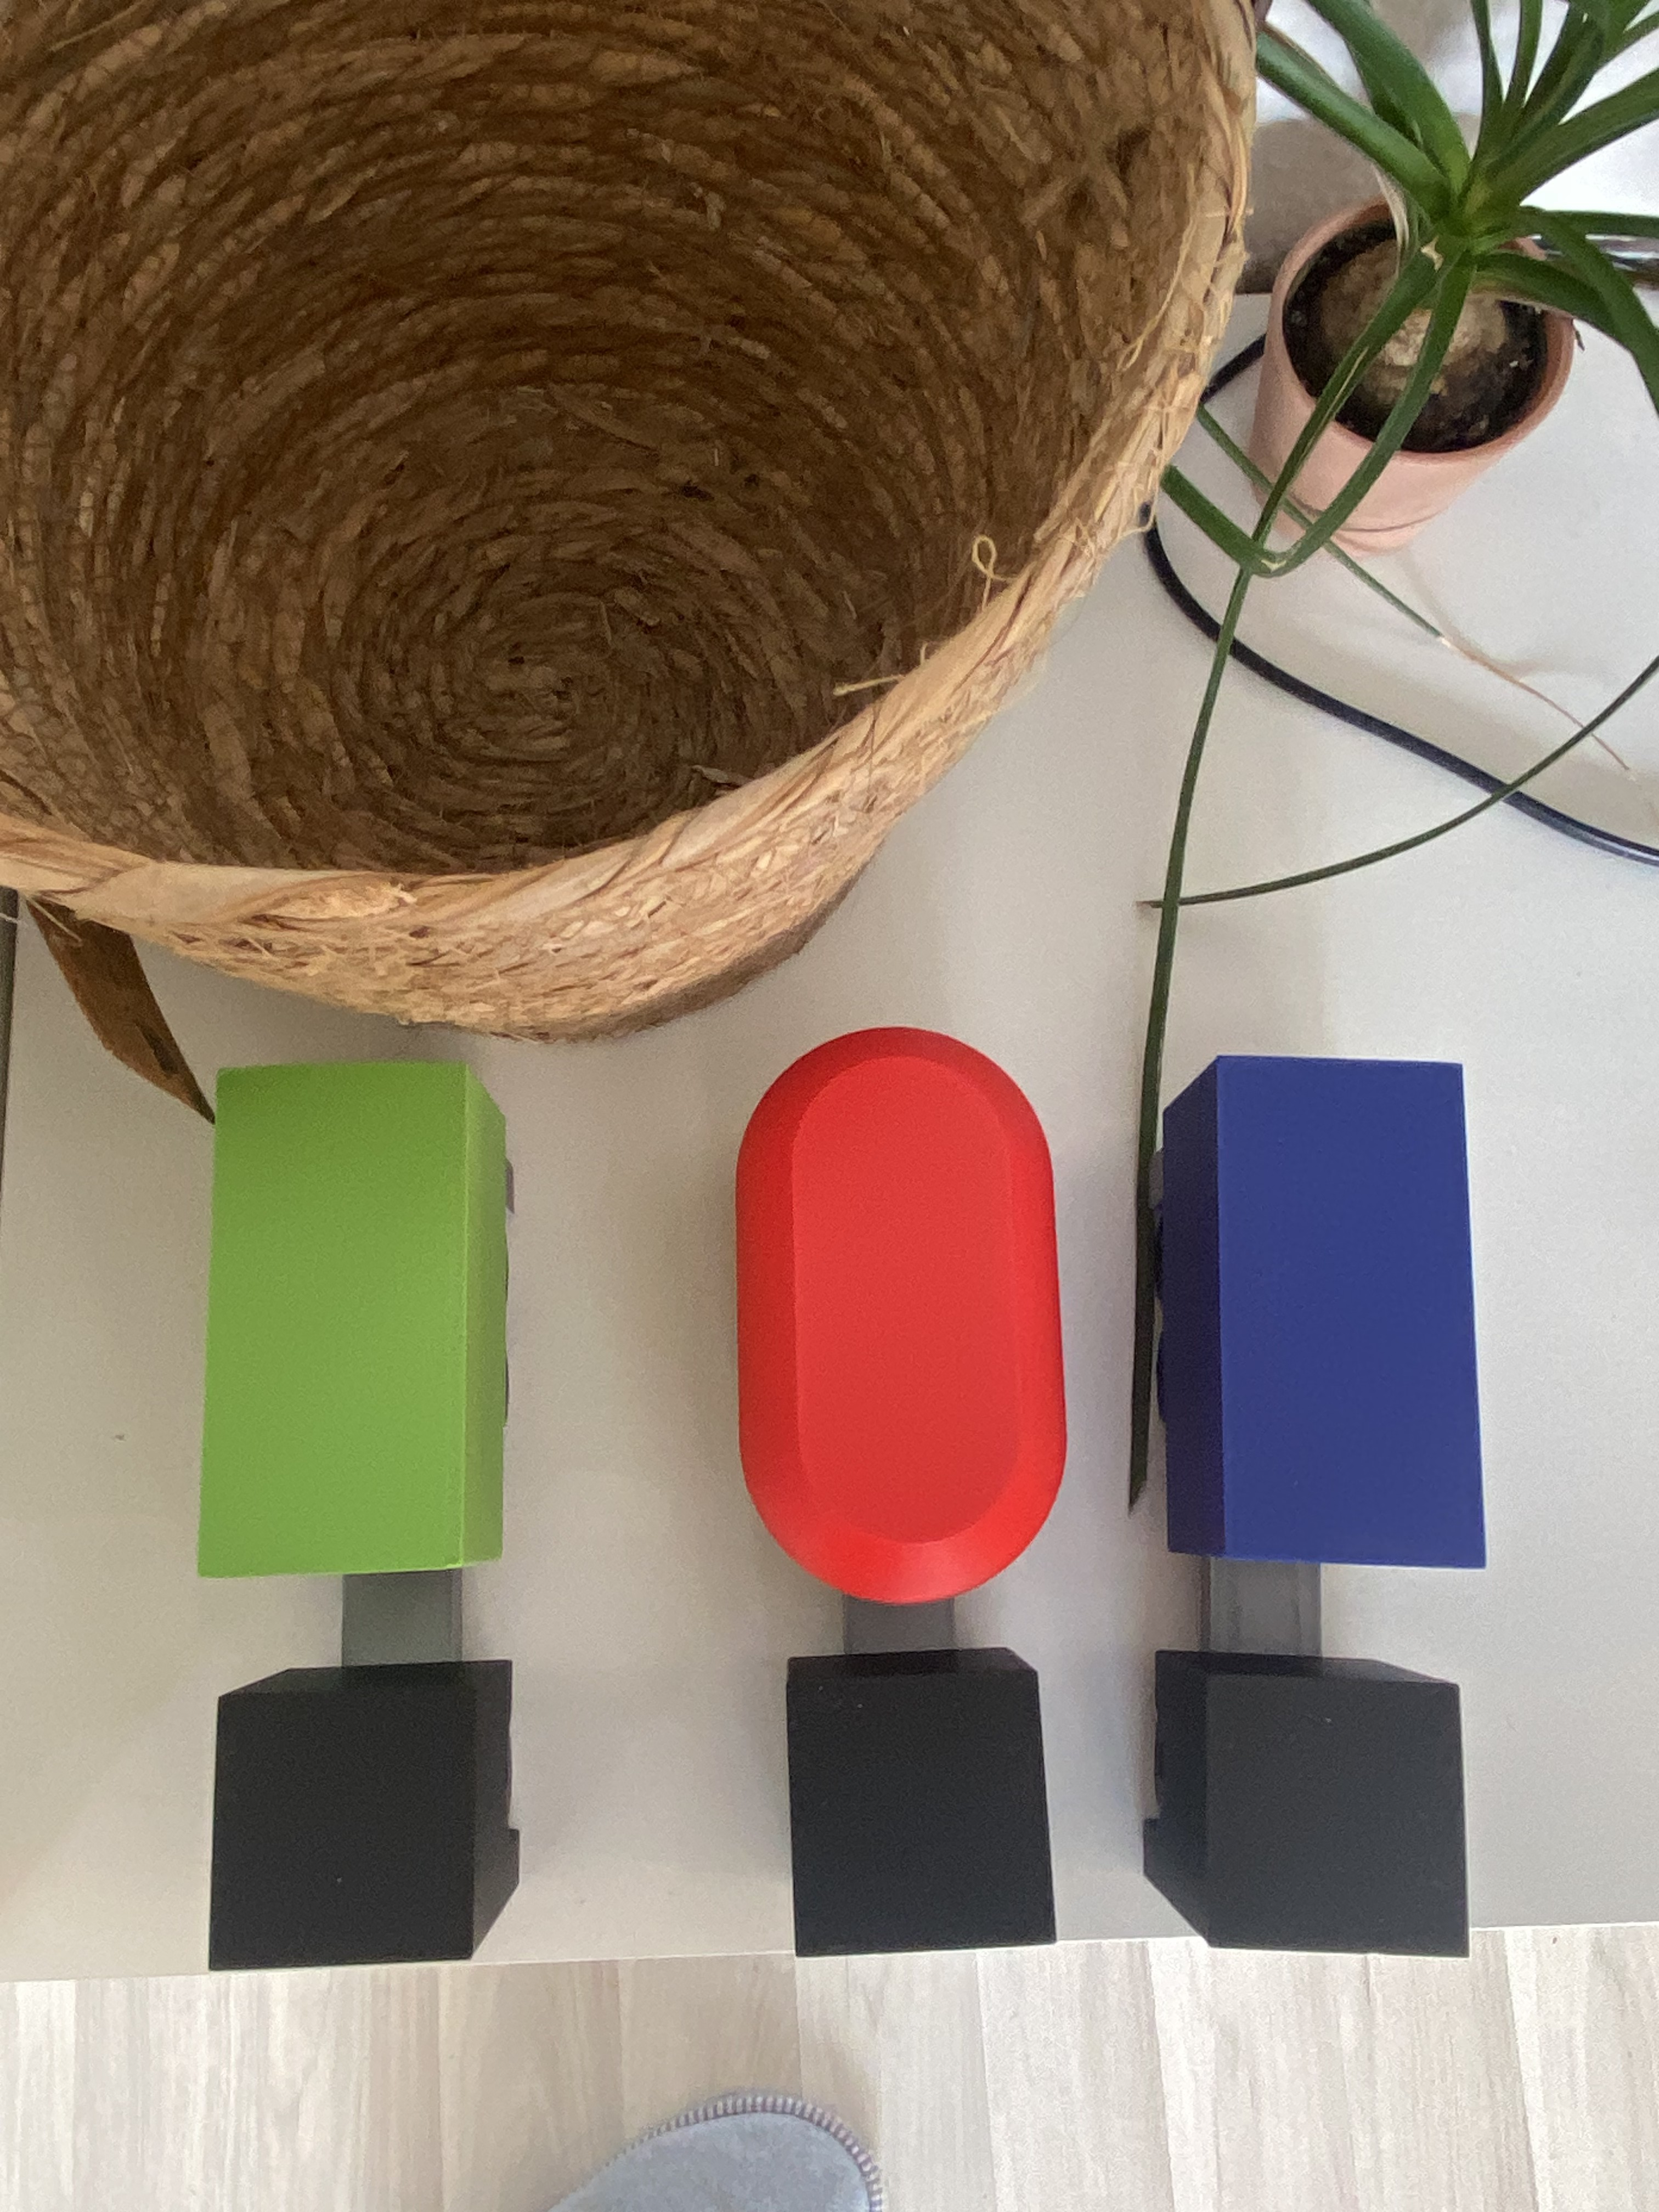blue_truck: (854, 1336, 1659, 1681)
green_truck: (199, 1052, 532, 1963)
red_truck: (443, 1325, 1398, 1639)
